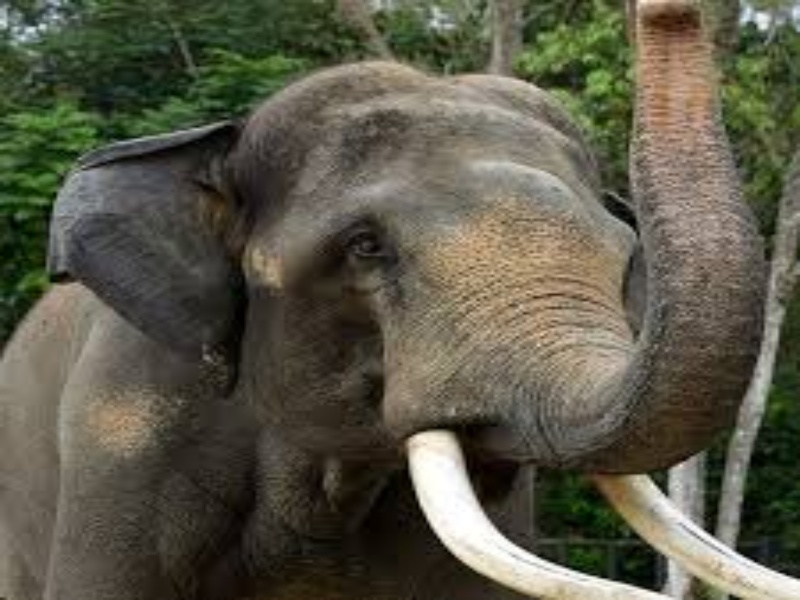elephant: (9, 22, 773, 578), (26, 18, 761, 580)
